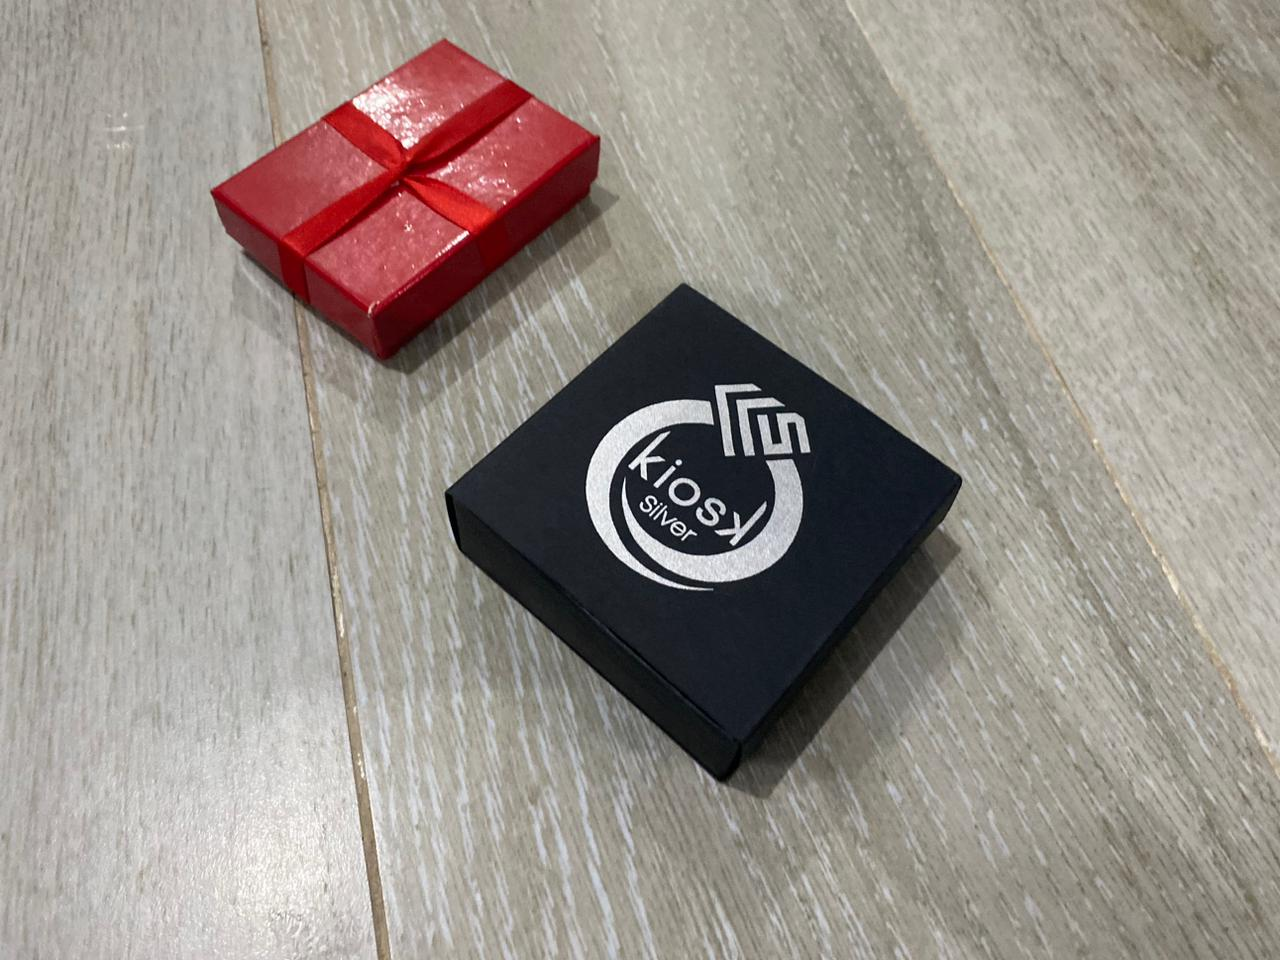Black Box: (209, 34, 615, 368)
Red Box: (442, 283, 972, 795)
